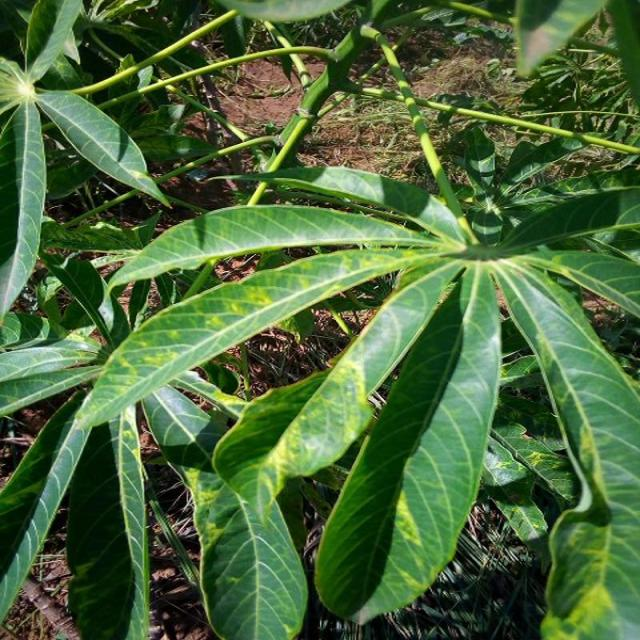cassava leaf: (312, 256, 502, 625)
